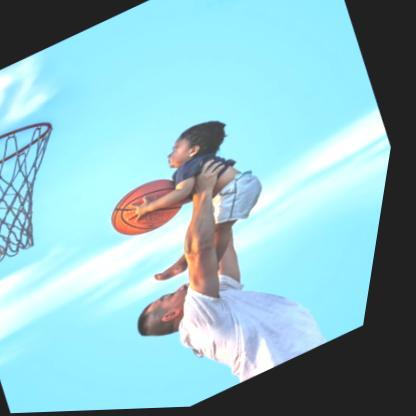basketball: (106, 171, 198, 249)
rim: (0, 111, 105, 278)
